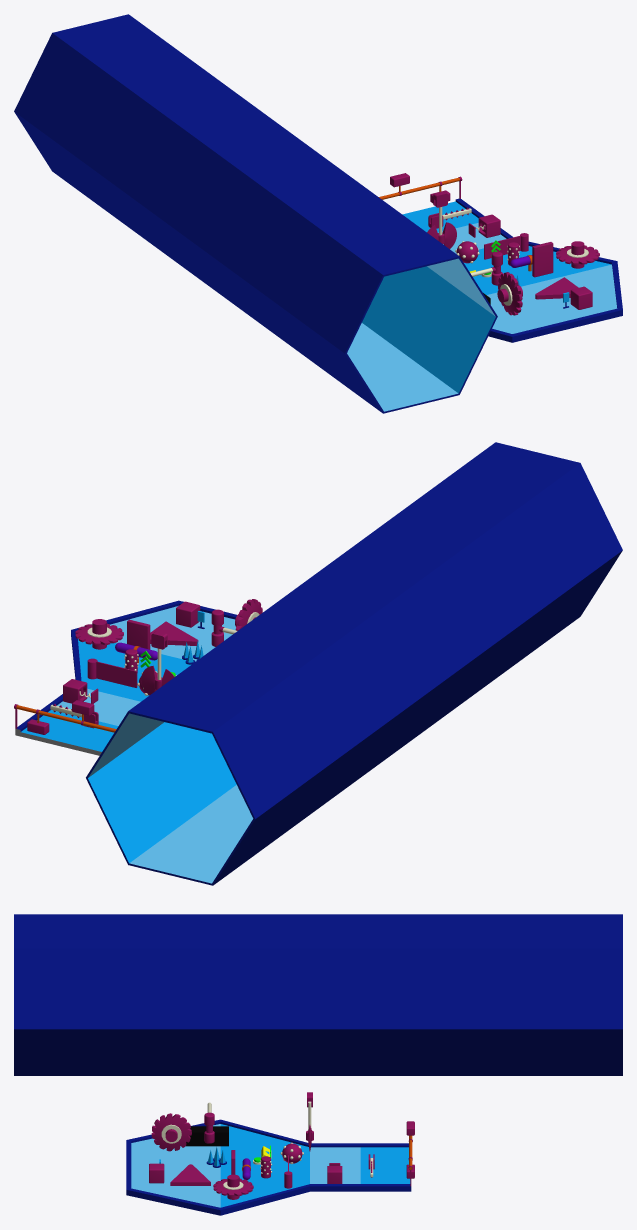
File: Join Clash Objects.fbx
The picture shows the model from 3 angles, top to bottom: view 1: azimuth 30°, elevation 25°; view 2: azimuth 150°, elevation 25°; view 3: azimuth 270°, elevation 25°; orthographic projection. The views are drawn at different scales.
Parts seen in each view (by area): view 1: Gengon001, Son_Alan, Yol, Cylinder002, Cylinder006, Hareketli_Engel, Cylinder007; view 2: Gengon001, Son_Alan, Yol, Cylinder006, Box040, Cylinder007, Hareketli_Engel, Ucgen; view 3: Gengon001, Son_Alan, Yol, Cylinder002, Box038, Cylinder006, Ucgen.
Part boxes in pixels (x1,y1,x2,y2): Gengon001: (14,14,497,413); Son_Alan: (464,241,622,342); Yol: (402,198,512,253); Cylinder002: (497,272,522,315); Cylinder006: (556,241,599,268); Hareketli_Engel: (532,242,553,277); Cylinder007: (427,207,456,248); Gengon001: (86,442,622,885); Son_Alan: (71,600,236,701); Yol: (15,688,140,755); Cylinder006: (75,619,123,649); Box040: (96,661,137,687); Cylinder007: (141,648,174,695); Hareketli_Engel: (127,619,150,657); Ucgen: (150,621,198,645); Gengon001: (14,914,622,1075); Son_Alan: (126,1119,309,1215); Yol: (310,1143,411,1191); Cylinder002: (151,1113,191,1151); Box038: (186,1126,228,1146); Cylinder006: (213,1174,253,1199); Ucgen: (170,1164,210,1185).
Size of the model in its own units: 2013 by 794 by 3000.
